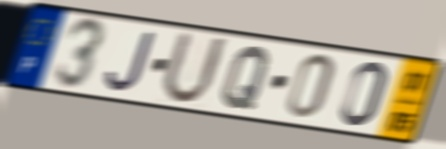0: (283, 52, 337, 122), (338, 59, 390, 129)
3: (51, 14, 108, 95)
J: (103, 28, 160, 95)
Q: (218, 44, 273, 113)
U: (157, 29, 230, 108)
